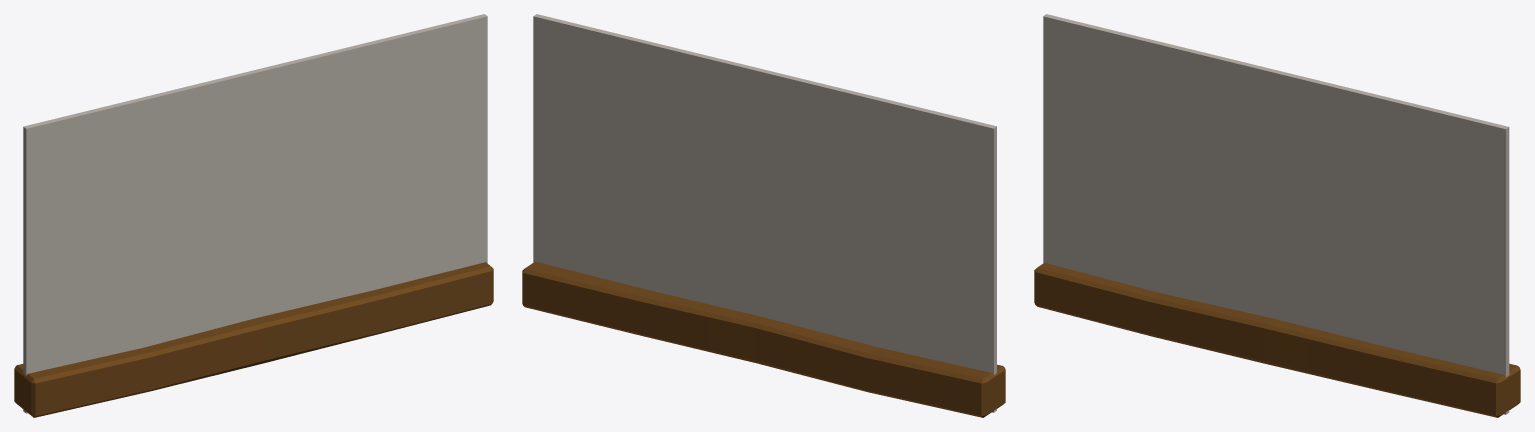
File: Wall_12.fbx
The picture shows the model from 3 angles, left to right: view 1: azimuth 30°, elevation 25°; view 2: azimuth 150°, elevation 25°; view 3: azimuth 330°, elevation 25°; orthographic projection.
Parts seen in each view (by area): view 1: Wall_12; view 2: Wall_12; view 3: Wall_12.
Boxes of the visible parts, x1,y1,x2,y2 form: Wall_12: [14, 14, 493, 417]; Wall_12: [522, 14, 1005, 417]; Wall_12: [1034, 14, 1520, 417].
Size of the model in its own units: 476 by 280 by 41.92.
